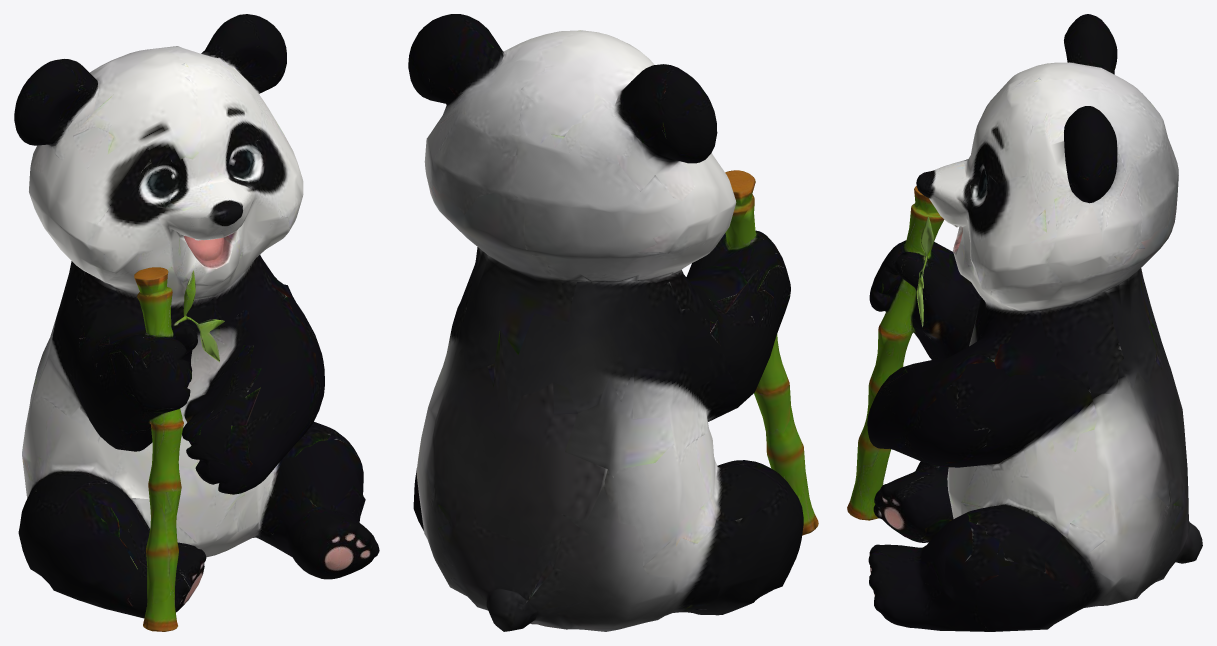
The model's file is panda.glb.
The picture shows the model from 3 angles, left to right: view 1: azimuth 30°, elevation 25°; view 2: azimuth 150°, elevation 25°; view 3: azimuth 270°, elevation 25°; orthographic projection. The views are drawn at different scales.
Size of the model in its own units: 1.28 by 1.9 by 1.2.
1 material, 1 textured.
